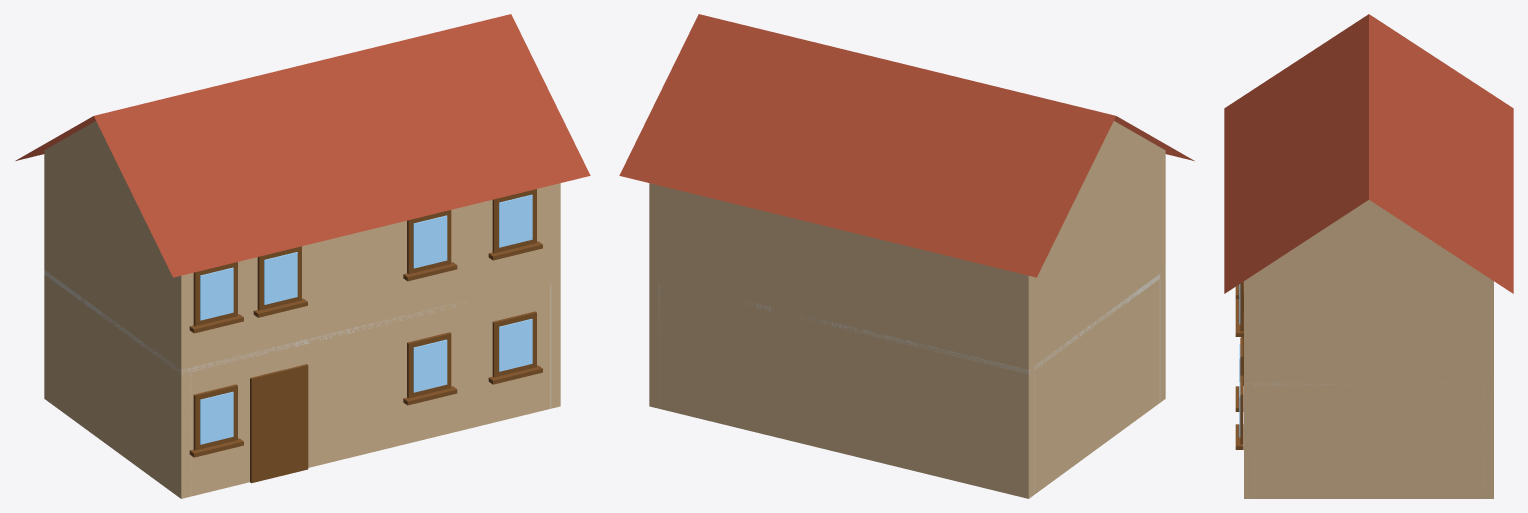
File: house.glb
3 renders of one model, left to right at view 1: azimuth 30°, elevation 25°; view 2: azimuth 150°, elevation 25°; view 3: azimuth 270°, elevation 25°, orthographic. The views are drawn at different scales.
Parts seen in each view (by area): view 1: Roof, wall-front-right, wall-left, wall-front-left, Door, lintel-front, GableLeft, Window1, Window2, Window3, Window7, Window4 (+5 smaller); view 2: wall-back, Roof, wall-left, GableLeft, Ceiling, wall-front-left, wall-right; view 3: wall-right, Roof, GableRight, wall-front-right, wall-back, Window3, Window7, Window2.
Part boxes in pixels (x1=…): Roof: x1=15, y1=14, x2=590, y2=277; wall-front-right: x1=302, y1=183, x2=560, y2=467; wall-left: x1=44, y1=151, x2=190, y2=498; wall-front-left: x1=175, y1=259, x2=249, y2=498; Door: x1=250, y1=364, x2=308, y2=483; lintel-front: x1=250, y1=245, x2=306, y2=377; GableLeft: x1=44, y1=121, x2=147, y2=225; Window1: x1=189, y1=384, x2=243, y2=457; Window2: x1=403, y1=332, x2=457, y2=405; Window3: x1=488, y1=311, x2=542, y2=384; Window7: x1=488, y1=189, x2=542, y2=260; Window4: x1=189, y1=262, x2=243, y2=333; wall-back: x1=649, y1=183, x2=1034, y2=498; Roof: x1=619, y1=14, x2=1194, y2=277; wall-left: x1=1019, y1=155, x2=1160, y2=498; GableLeft: x1=1062, y1=121, x2=1165, y2=225; Ceiling: x1=735, y1=274, x2=1160, y2=374; wall-front-left: x1=1160, y1=151, x2=1165, y2=402; wall-right: x1=649, y1=183, x2=658, y2=406; wall-right: x1=1244, y1=272, x2=1493, y2=498; Roof: x1=1224, y1=14, x2=1513, y2=293; GableRight: x1=1257, y1=200, x2=1480, y2=272; wall-front-right: x1=1244, y1=275, x2=1253, y2=498; wall-back: x1=1484, y1=275, x2=1493, y2=498; Window3: x1=1235, y1=375, x2=1243, y2=449; Window7: x1=1235, y1=282, x2=1243, y2=336; Window2: x1=1235, y1=337, x2=1243, y2=411.
Size of the model in its own units: 8.8 by 6.8 by 5.8.
